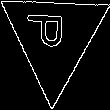P_E: (31, 19, 77, 57)
